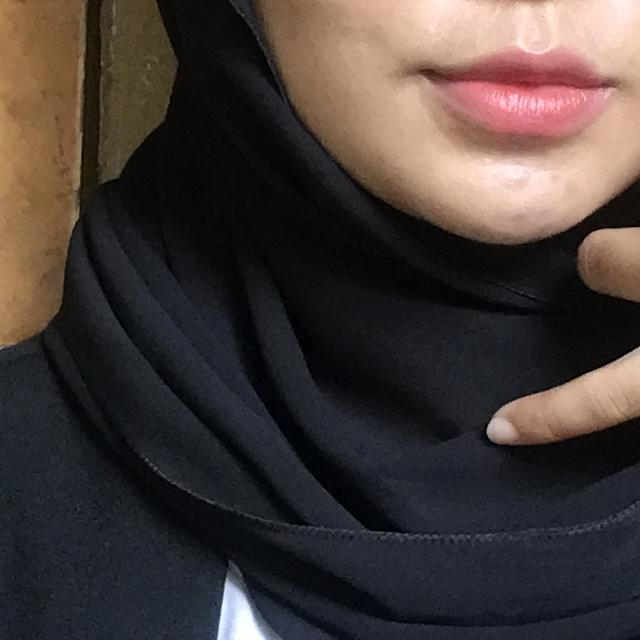telpon: (500, 0, 640, 640)
